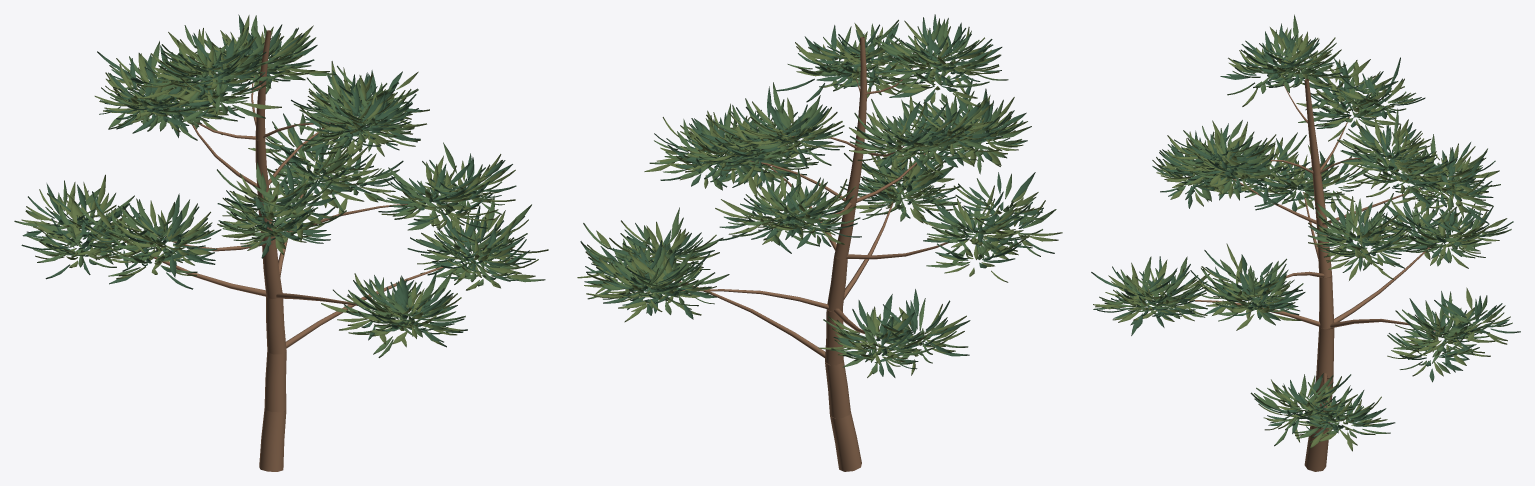
The model's file is Pin_Laricio_0_High.fbx.
3 views of the same model, side by side, from view 1: azimuth 30°, elevation 25°; view 2: azimuth 150°, elevation 25°; view 3: azimuth 270°, elevation 25° (orthographic). The views are drawn at different scales.
Parts seen in each view (by area): view 1: Pin_Laricio_0_High; view 2: Pin_Laricio_0_High; view 3: Pin_Laricio_0_High.
Boxes of the visible parts, x1,y1,x2,y2 form: Pin_Laricio_0_High: (14, 14, 548, 471); Pin_Laricio_0_High: (577, 14, 1062, 471); Pin_Laricio_0_High: (1091, 14, 1520, 471).
Size of the model in its own units: 807 by 778 by 753.
